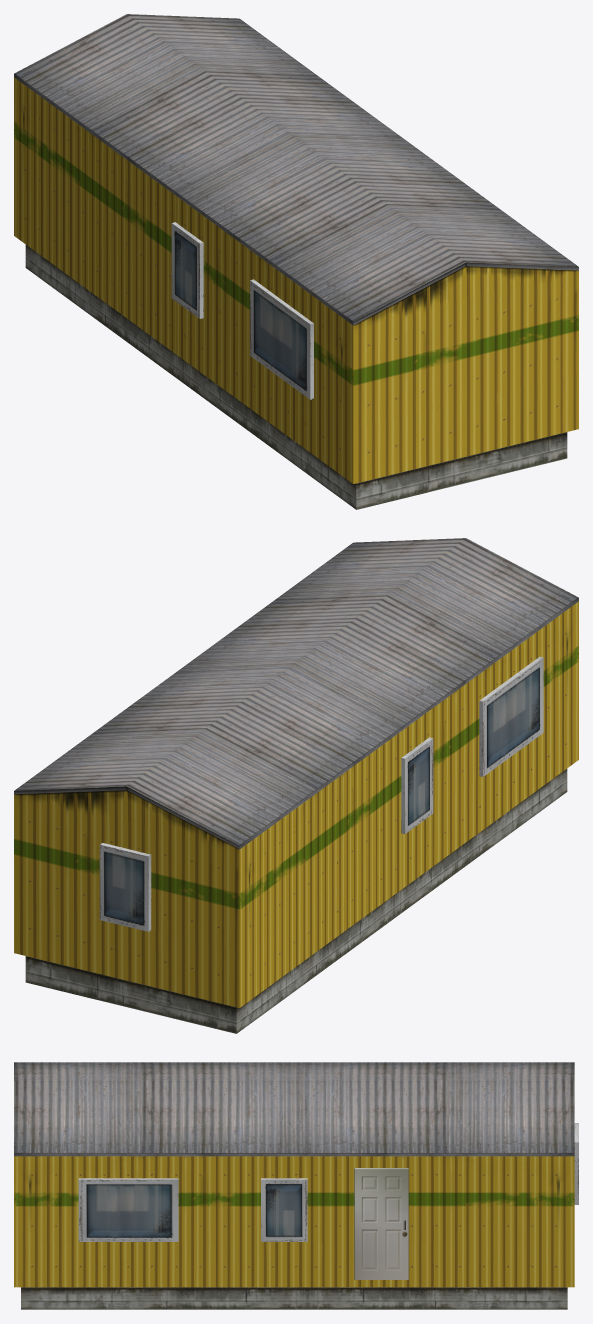
Rendered from houseTrailerLOD.FBX.
3 renders of one model, top to bottom at view 1: azimuth 30°, elevation 25°; view 2: azimuth 150°, elevation 25°; view 3: azimuth 270°, elevation 25°, orthographic. The views are drawn at different scales.
Parts seen in each view (by area): view 1: houseTrailerLOD; view 2: houseTrailerLOD; view 3: houseTrailerLOD.
Part boxes in pixels (<box>): houseTrailerLOD: <box>14,14,578,509</box>; houseTrailerLOD: <box>14,538,578,1033</box>; houseTrailerLOD: <box>14,1062,578,1309</box>.
Bounding box in the file's own units: 95.37 × 88.05 × 243.
